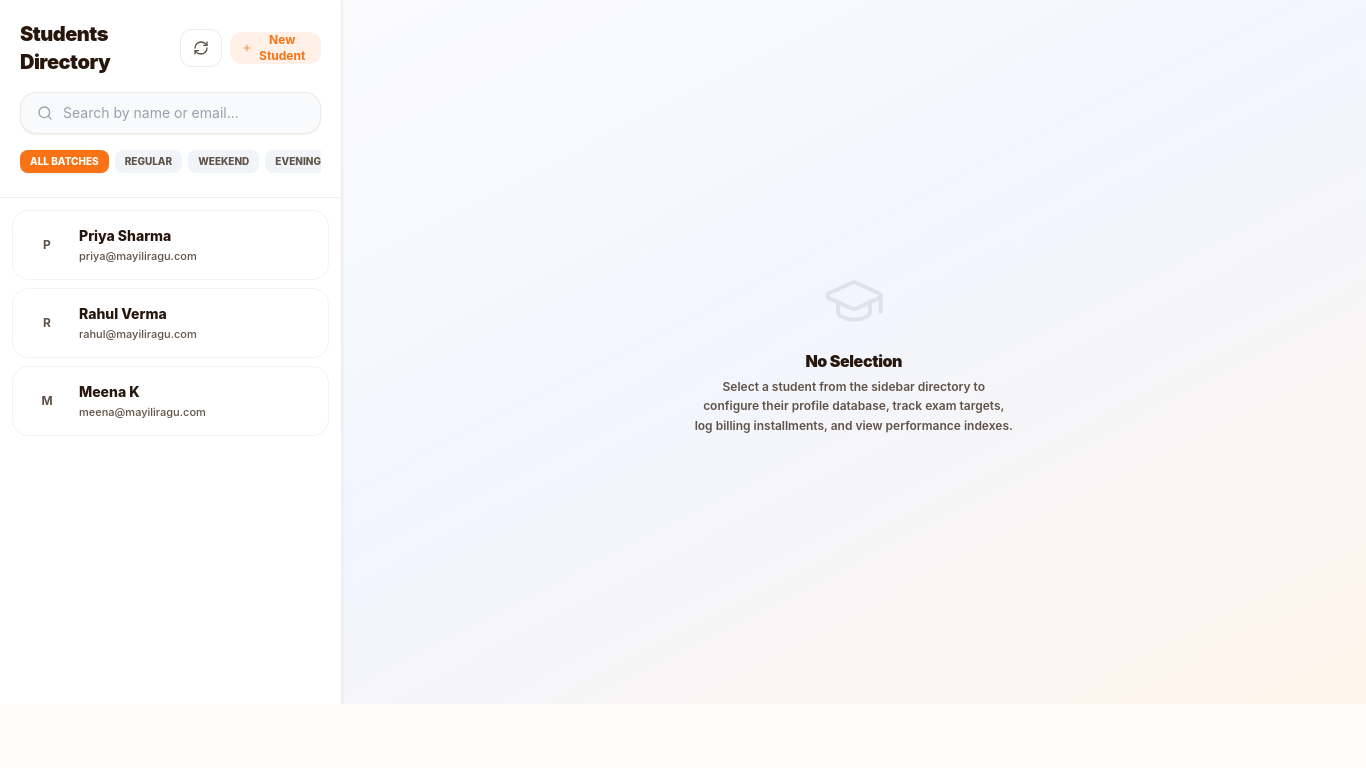
Test case: StudentManagementPage › filters students by search query
In the field with placeholder "Search by name or email...": {"x": 183, "y": 113} [63,103,304,123], type "Rahul"
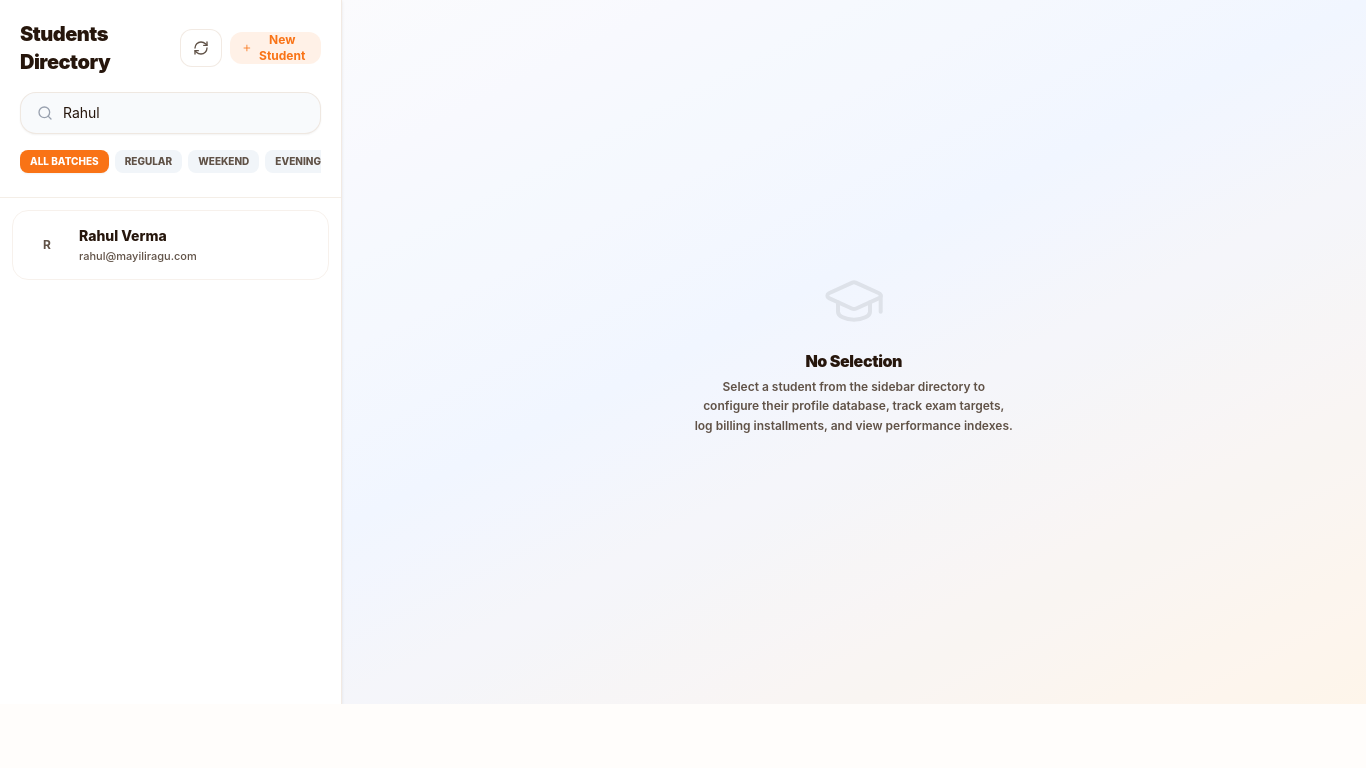
Expected: the text "Rahul Verma" is shown, [79,227,167,244]
Now the text "Priya Sharma" is gone
Now the text "Meena K" is gone
